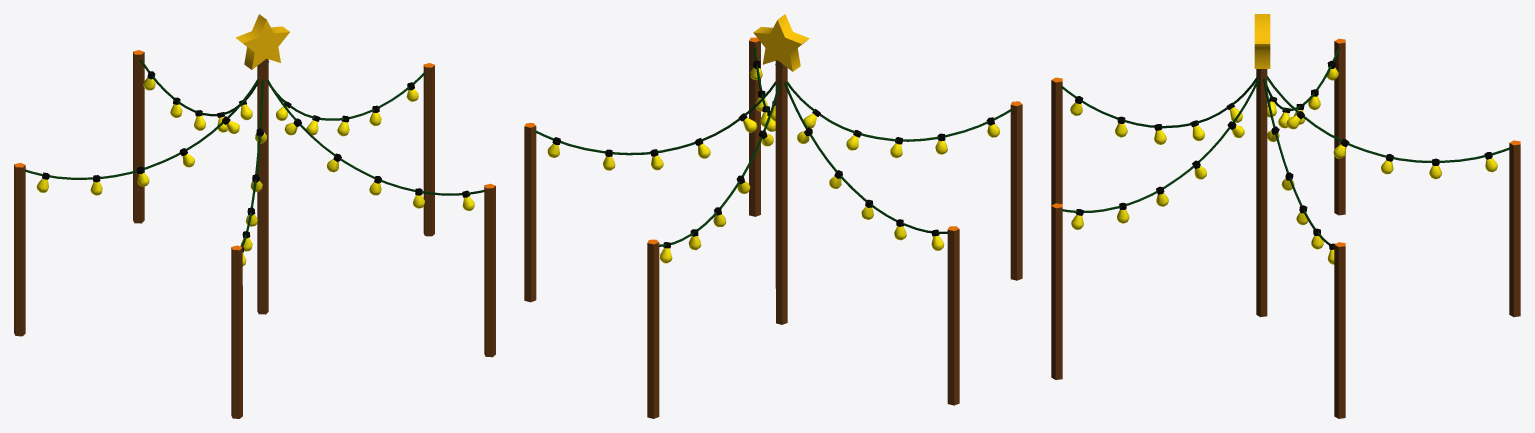
The model's file is MiddelpuntLicht.fbx.
The picture shows the model from 3 angles, left to right: view 1: azimuth 30°, elevation 25°; view 2: azimuth 150°, elevation 25°; view 3: azimuth 270°, elevation 25°; orthographic projection. The views are drawn at different scales.
Visible parts, largest first — view 1: PaalCenter, Paal_1_4, Paal_1_3, Paal_1_2, Paal_1_1, Paal_1_0, Null_2, Null_7, Null_9, Null_11, Null_5, Cap_1 (+1 smaller); view 2: PaalCenter, Paal_1_0, Paal_1_4, Paal_1_1, Paal_1_3, Null_9, Paal_1_2, Null_5, Null_2, Null_11, Cap_2, Null_7 (+1 smaller); view 3: PaalCenter, Paal_1_2, Paal_1_1, Paal_1_0, Paal_1_4, Null_11, Null_7, Null_5, Paal_1_3, Null_9, Null_2, Extrude.
Part boxes in pixels (box(x1,y1,x2,y2)): PaalCenter: box(257, 58, 268, 314); Paal_1_4: box(14, 164, 25, 336); Paal_1_3: box(231, 247, 242, 418); Paal_1_2: box(484, 186, 495, 357); Paal_1_1: box(423, 65, 434, 236); Paal_1_0: box(133, 52, 144, 223); Null_2: box(25, 61, 269, 195); Null_7: box(267, 78, 484, 210); Null_9: box(259, 64, 425, 136); Null_11: box(140, 59, 266, 132); Null_5: box(240, 80, 266, 266); Cap_1: box(243, 20, 289, 69); PaalCenter: box(775, 60, 787, 324); Paal_1_0: box(647, 242, 659, 418); Paal_1_4: box(947, 229, 959, 405); Paal_1_1: box(524, 126, 536, 302); Paal_1_3: box(1010, 104, 1022, 280); Null_9: box(535, 81, 775, 170); Paal_1_2: box(749, 41, 760, 216); Null_5: box(775, 64, 1011, 158); Null_2: box(784, 81, 947, 250); Null_11: box(659, 82, 780, 263); Cap_2: box(753, 20, 801, 71); Null_7: box(750, 47, 783, 131); PaalCenter: box(1256, 69, 1267, 317); Paal_1_2: box(1051, 206, 1062, 379); Paal_1_1: box(1334, 245, 1345, 418); Paal_1_0: box(1509, 143, 1520, 316); Paal_1_4: box(1334, 41, 1345, 215); Null_11: box(1267, 76, 1509, 179); Null_7: box(1062, 77, 1259, 229); Null_5: box(1061, 77, 1256, 144); Paal_1_3: box(1051, 80, 1062, 205); Null_9: box(1263, 78, 1335, 264); Null_2: box(1267, 48, 1339, 128); Extrude: box(1254, 14, 1270, 68).
Bounding box in the file's own units: 253 × 170 × 241.
